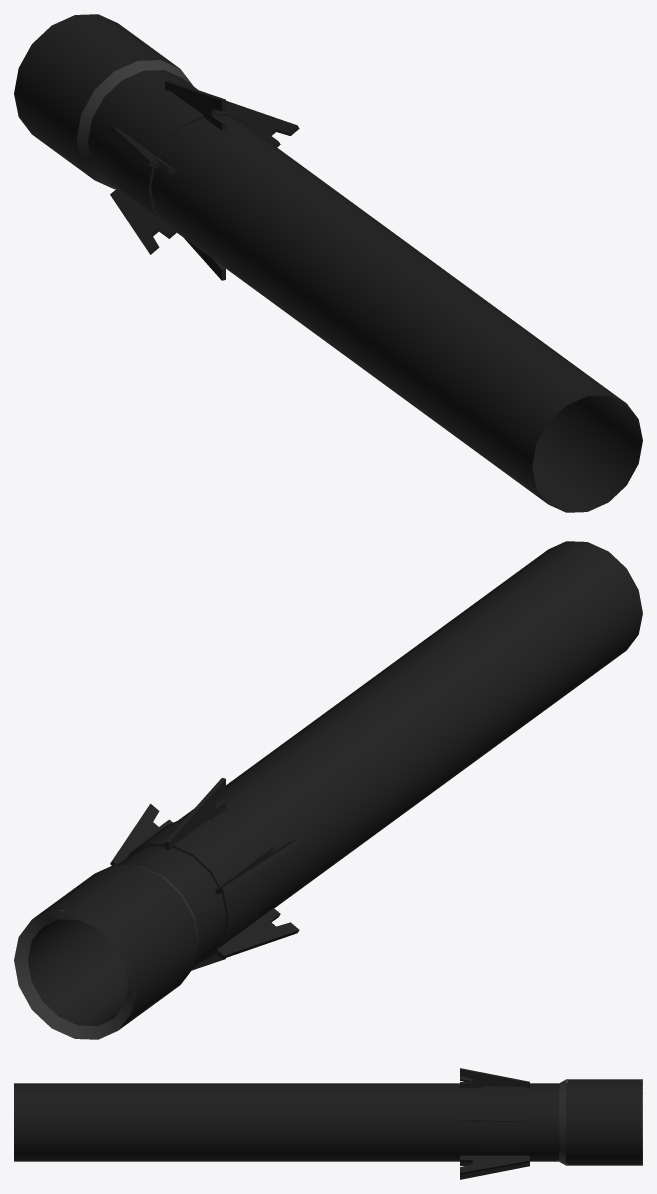
File: Gun.fbx
The picture shows the model from 3 angles, top to bottom: view 1: azimuth 30°, elevation 25°; view 2: azimuth 150°, elevation 25°; view 3: azimuth 270°, elevation 25°; orthographic projection. The views are drawn at different scales.
Visible parts, largest first — view 1: Gun; view 2: Gun; view 3: Gun.
Part boxes in pixels (x1,y1,x2,y2): Gun: (14, 14, 642, 512); Gun: (14, 541, 642, 1039); Gun: (14, 1068, 642, 1179).
Size of the model in its own units: 9.83 by 11.19 by 57.71.
